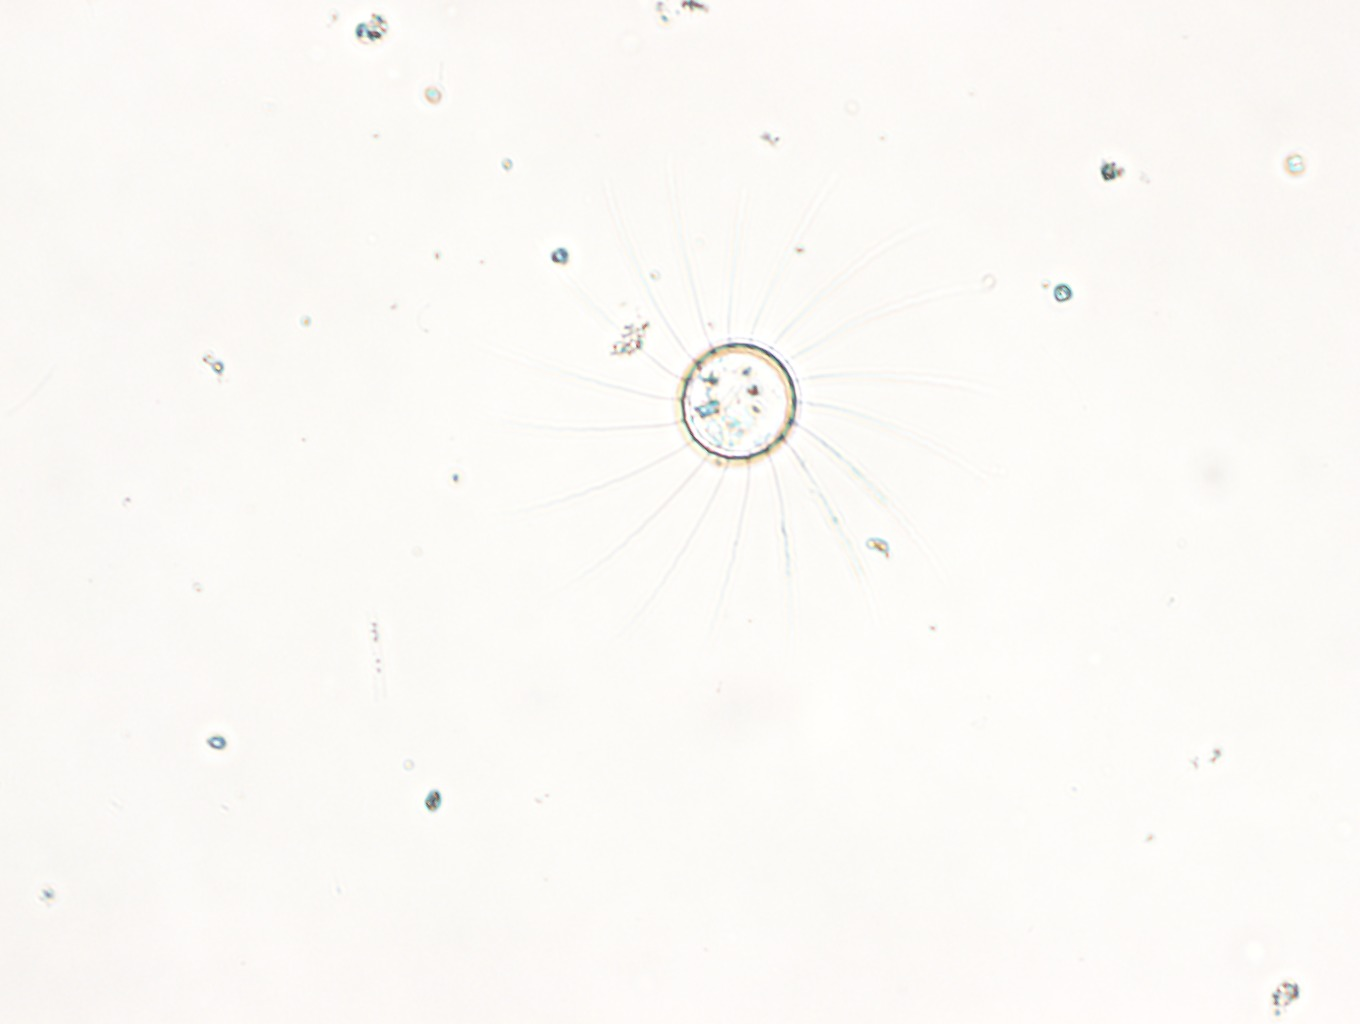bacteriastrum: (479, 153, 990, 641)
